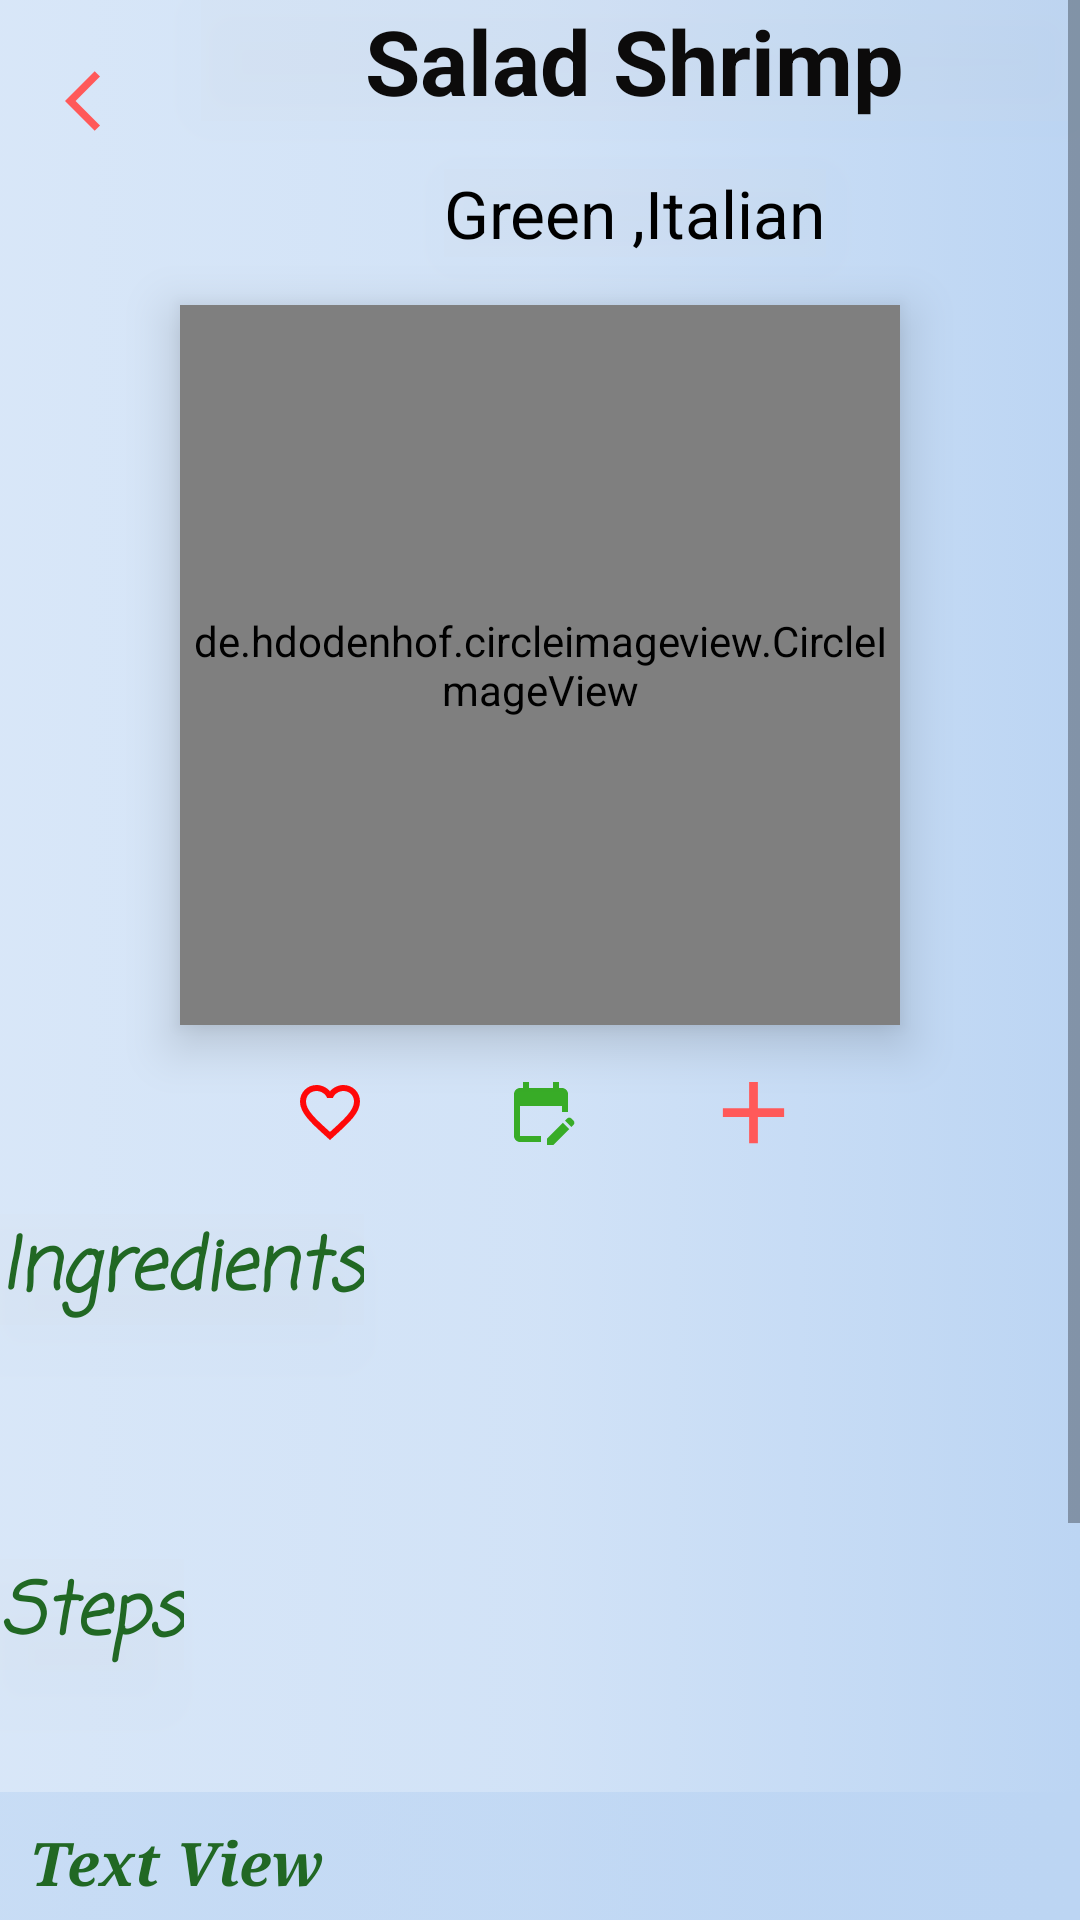

Locate icon controls on the screen. Image size 1080 x 1920, boxes as [left=x1, top=y1, right=x2, bottom=y2].
add: [left=723, top=1082, right=784, bottom=1144]
arrow back: [left=65, top=71, right=100, bottom=131]
edit calendar: [left=514, top=1082, right=575, bottom=1145]
favorite border: [left=300, top=1085, right=360, bottom=1140]
